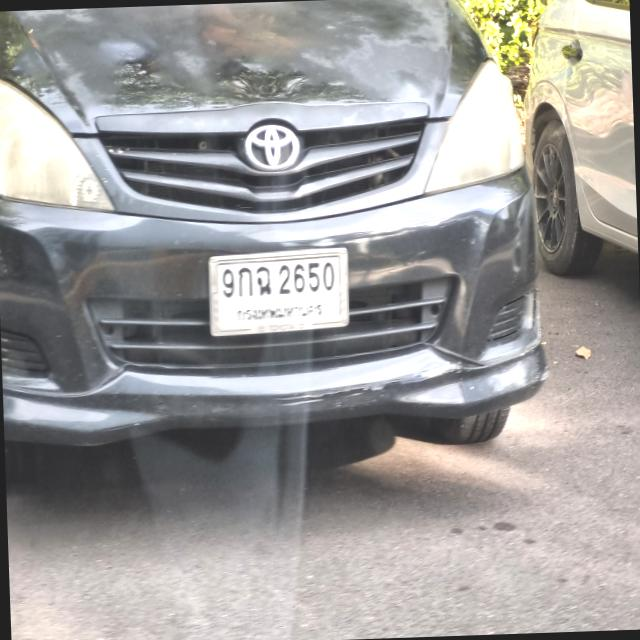license_plate: (206, 244, 352, 332)
